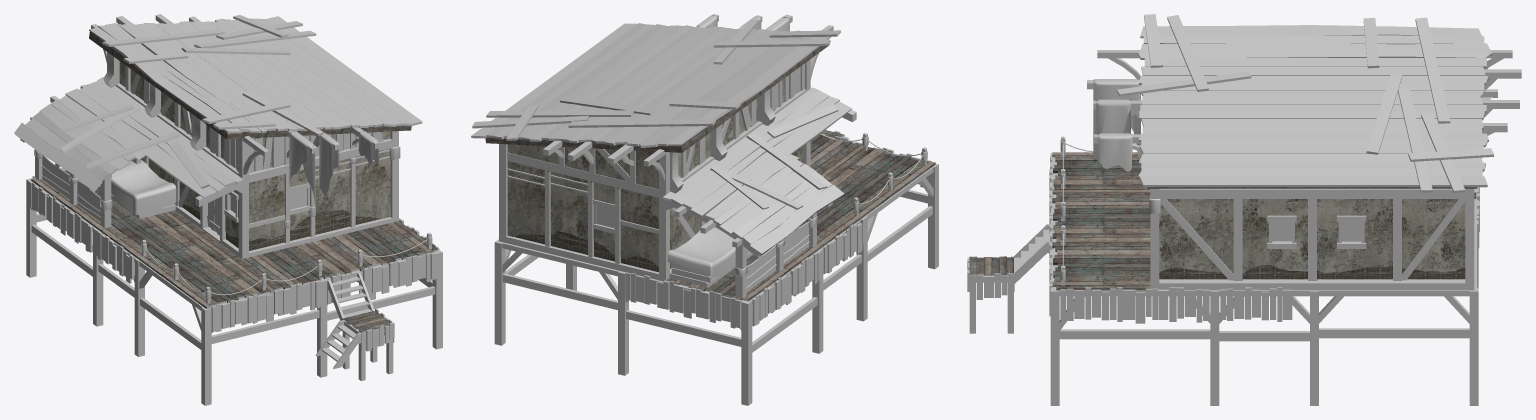
The model's file is House2.fbx.
3 views of the same model, side by side, from view 1: azimuth 30°, elevation 25°; view 2: azimuth 150°, elevation 25°; view 3: azimuth 270°, elevation 25° (orthographic). The views are drawn at different scales.
Visible parts, largest first — view 1: Base, Stairs, Doors; view 2: Base; view 3: Base, Stairs.
Boxes of the visible parts, x1,y1,x2,y2 form: Base: (14,14,442,405); Stairs: (315,272,394,380); Doors: (207,197,219,235); Base: (471,14,938,405); Base: (1049,14,1521,405); Stairs: (967,224,1051,333).
Size of the model in its own units: 12.8 by 10.38 by 18.4.
